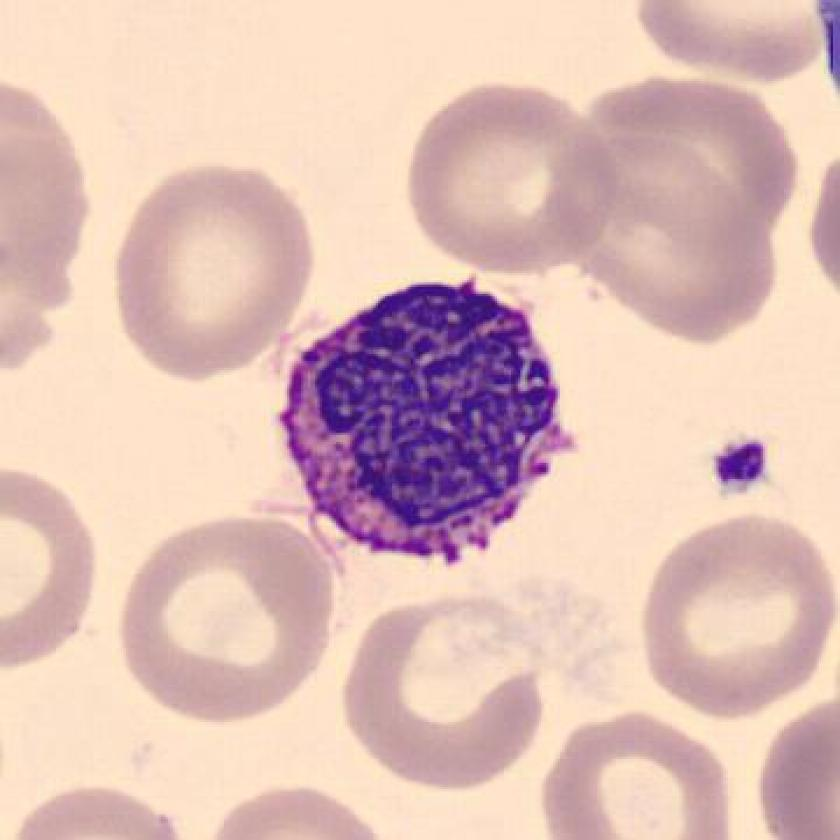basophil: (281, 279, 566, 575)
